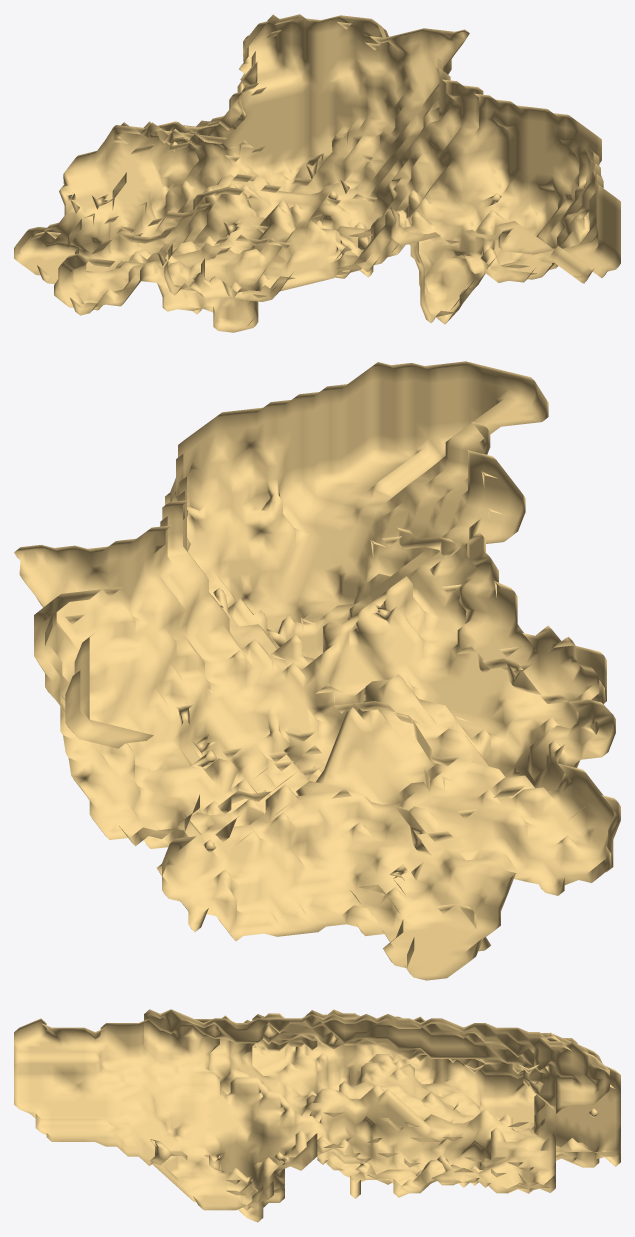
Rendered from osteocyte_29.glb.
3 renders of one model, top to bottom at view 1: azimuth 30°, elevation 25°; view 2: azimuth 150°, elevation 25°; view 3: azimuth 270°, elevation 25°, orthographic. The views are drawn at different scales.
Parts seen in each view (by area): view 1: osteocyte_29; view 2: osteocyte_29; view 3: osteocyte_29.
Part boxes in pixels (x1,y1,x2,y2): osteocyte_29: [14, 14, 620, 332]; osteocyte_29: [14, 361, 620, 980]; osteocyte_29: [14, 1009, 620, 1222].
Bounding box in the file's own units: 19.67 × 8.05 × 25.04.
